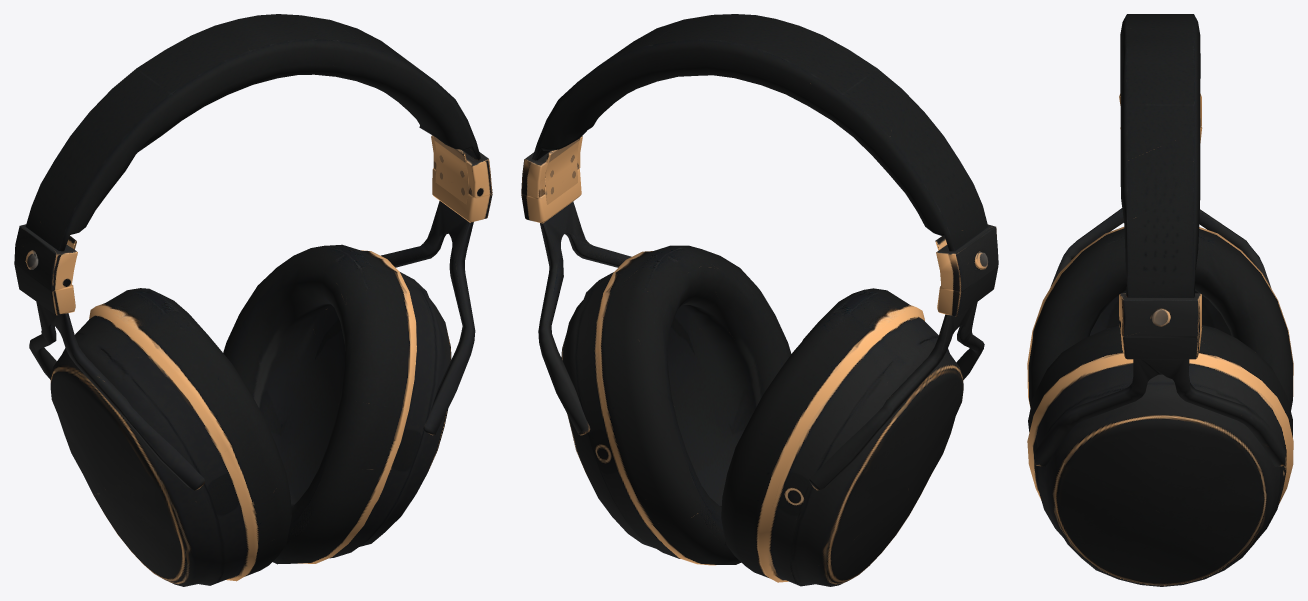
File: atl-headphones.glb
The picture shows the model from 3 angles, left to right: view 1: azimuth 30°, elevation 25°; view 2: azimuth 150°, elevation 25°; view 3: azimuth 270°, elevation 25°; orthographic projection. The views are drawn at different scales.
Size of the model in its own units: 0.8398 by 0.9517 by 0.4438.
1 material, 1 textured.
